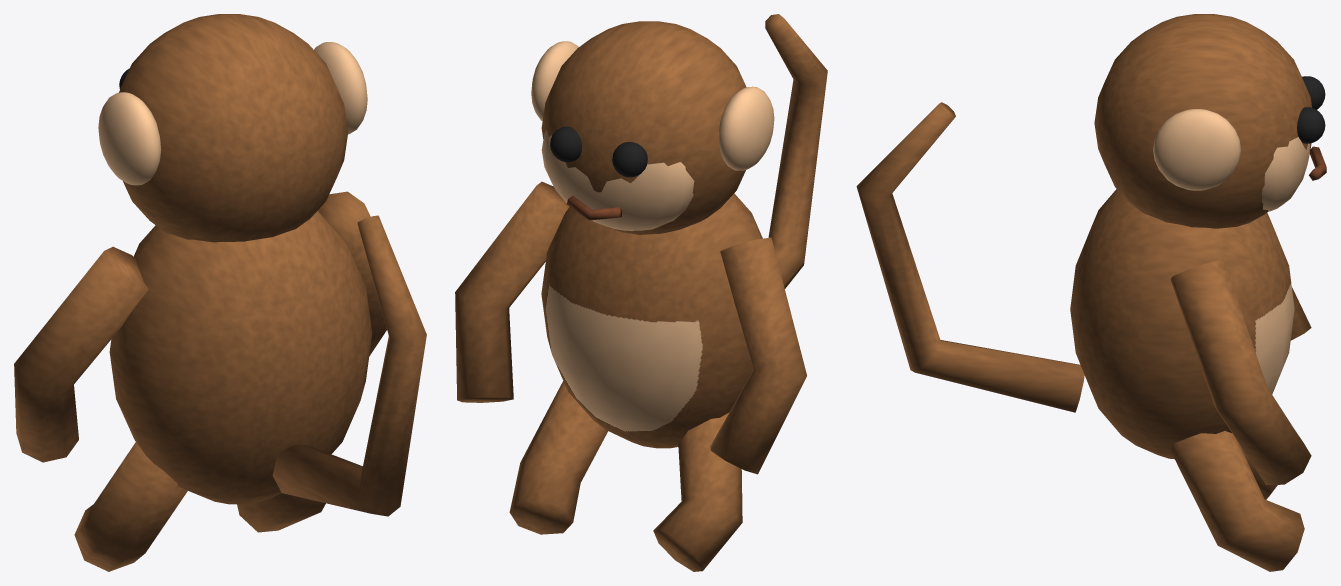
File: monkey.glb
3 renders of one model, left to right at view 1: azimuth 30°, elevation 25°; view 2: azimuth 150°, elevation 25°; view 3: azimuth 270°, elevation 25°, orthographic. The views are drawn at different scales.
Parts seen in each view (by area): view 1: Body, Head; view 2: Body, Head; view 3: Body, Head.
Boxes of the visible parts, left/top/right/bottom form: Body: left=14, top=191, right=426, bottom=571; Head: left=98, top=14, right=367, bottom=242; Body: left=455, top=14, right=827, bottom=571; Head: left=531, top=21, right=774, bottom=234; Body: left=856, top=102, right=1311, bottom=571; Head: left=1094, top=14, right=1326, bottom=228.
Bounding box in the file's own units: 0.5589 × 0.7677 × 0.6409.
1 material, 1 textured.
